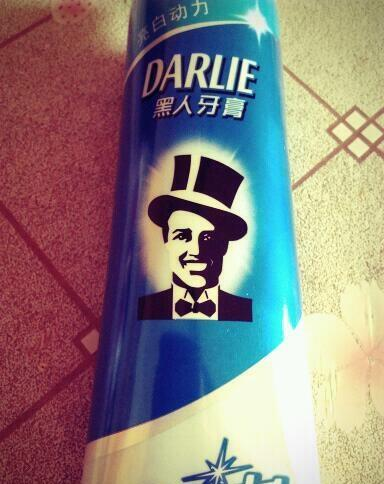darlie: (136, 144, 256, 315)
